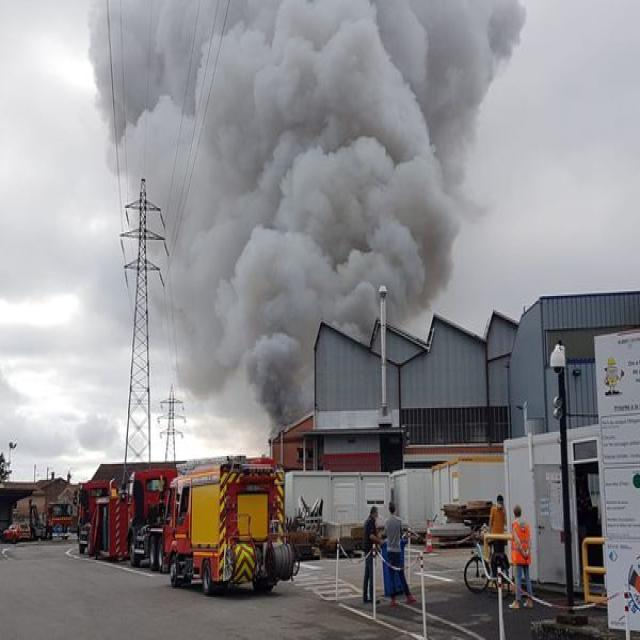Smoke: (96, 1, 466, 172), (170, 178, 442, 309), (233, 312, 313, 404)
